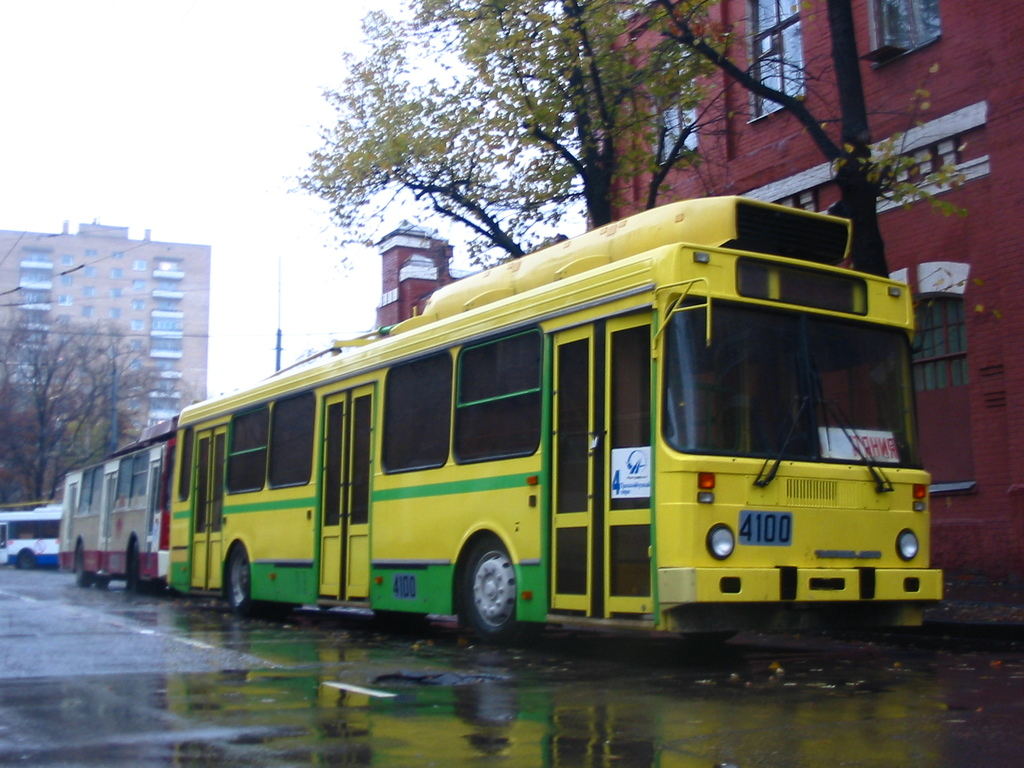Bus: (165, 193, 946, 646), (58, 412, 186, 591), (0, 503, 64, 574)
